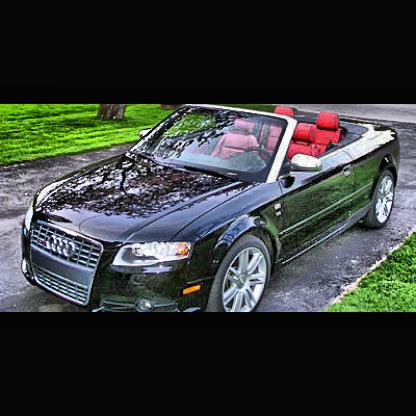Audi RS 4 Convertible 2008: (23, 106, 402, 312)
